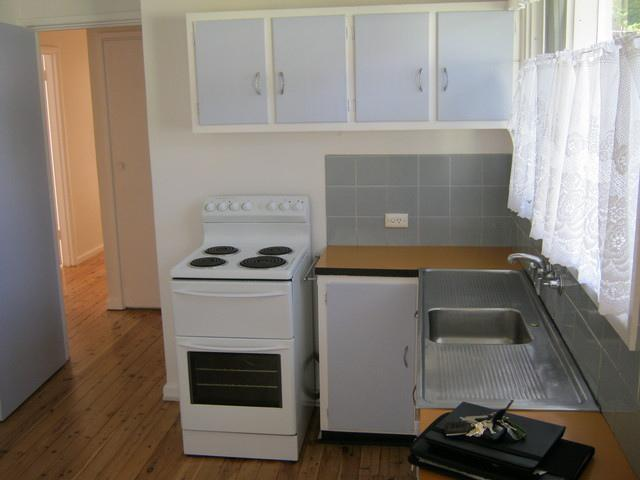Lavaplatos: (422, 242, 622, 410)
